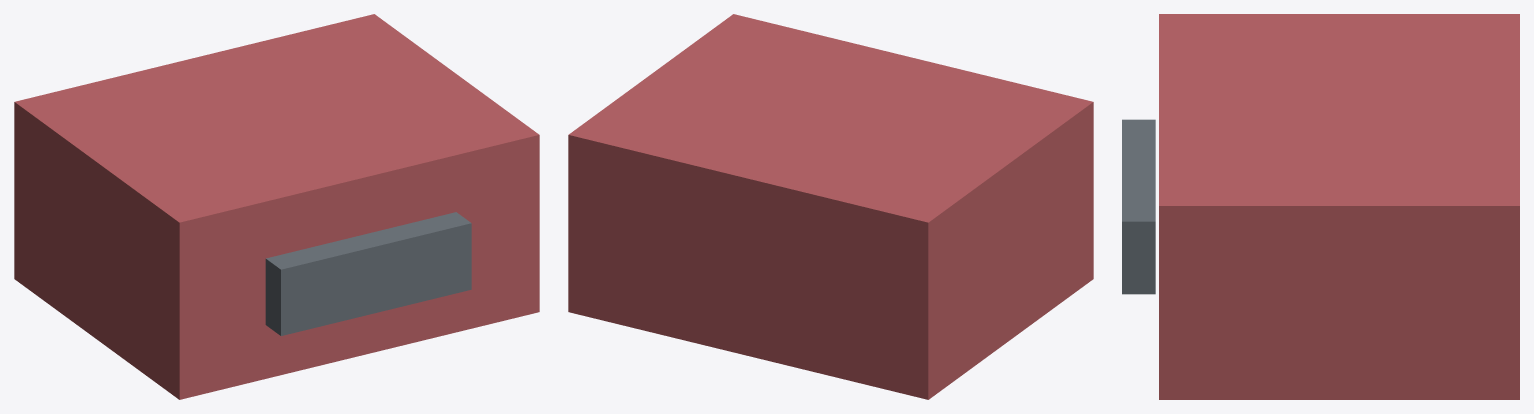
Rendered from first_aid_kit.glb.
The picture shows the model from 3 angles, left to right: view 1: azimuth 30°, elevation 25°; view 2: azimuth 150°, elevation 25°; view 3: azimuth 270°, elevation 25°; orthographic projection. The views are drawn at different scales.
Visible parts, largest first — view 1: 00_kit_case, 04_handle; view 2: 00_kit_case; view 3: 00_kit_case, 04_handle.
Part boxes in pixels (left/top/right/bottom): 00_kit_case: left=14, top=14, right=539, bottom=399; 04_handle: left=265, top=212, right=471, bottom=335; 00_kit_case: left=568, top=14, right=1093, bottom=399; 00_kit_case: left=1159, top=14, right=1519, bottom=399; 04_handle: left=1122, top=119, right=1155, bottom=294.
Bounding box in the file's own units: 0.34 × 0.174 × 0.2975.
